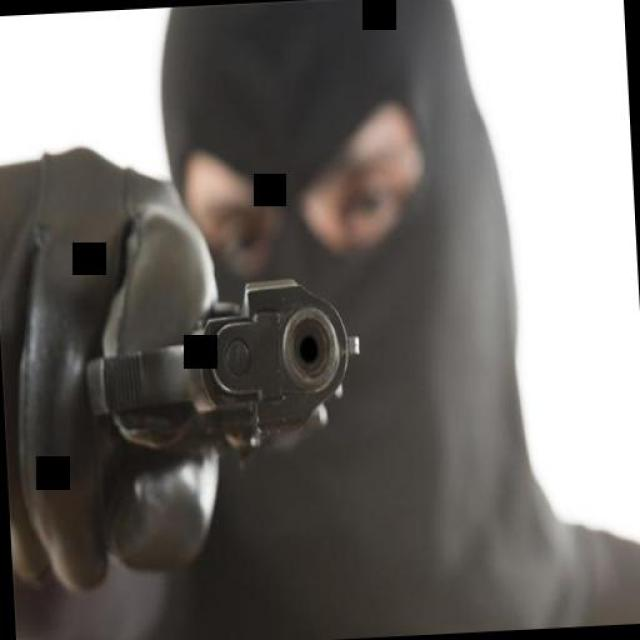gun: (71, 253, 381, 488)
